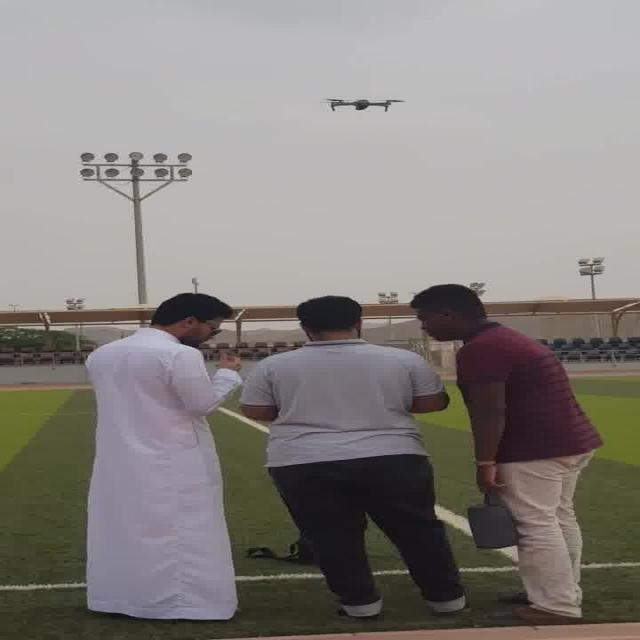drone: (319, 92, 406, 110)
